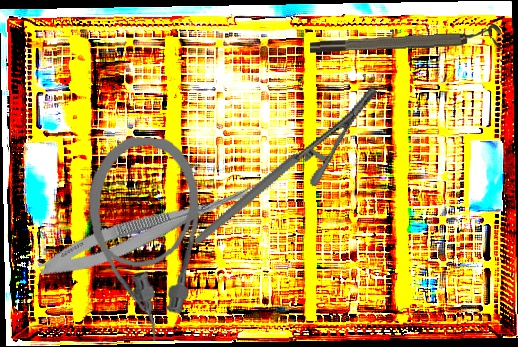Cannula: (81, 135, 203, 343)
Fixation Ring: (309, 24, 502, 56)
Micro Scissor: (34, 168, 265, 287)
Needle Holder: (165, 84, 406, 246)
